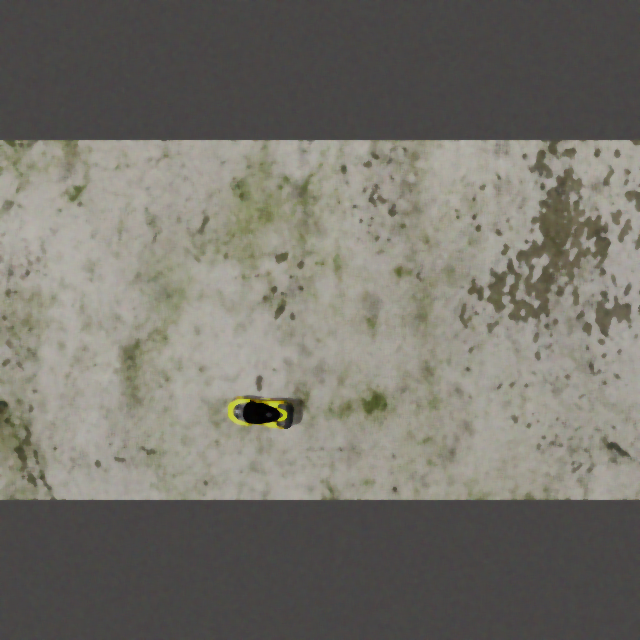car: (224, 394, 295, 432)
